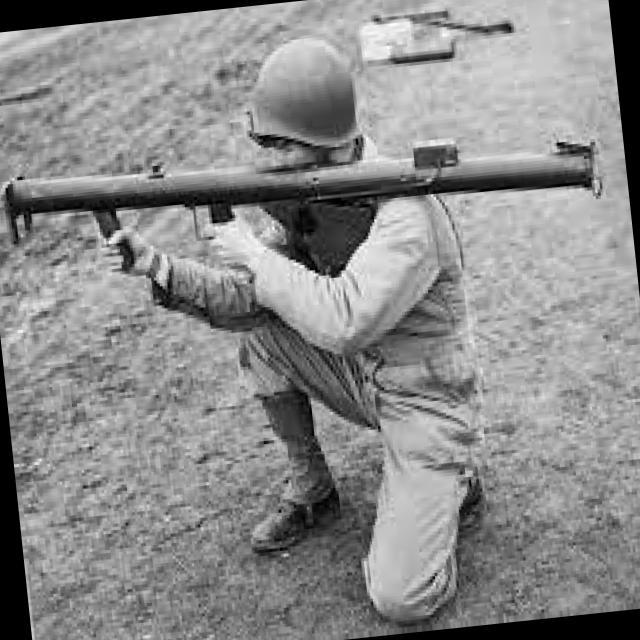rocket: (1, 116, 602, 250)
